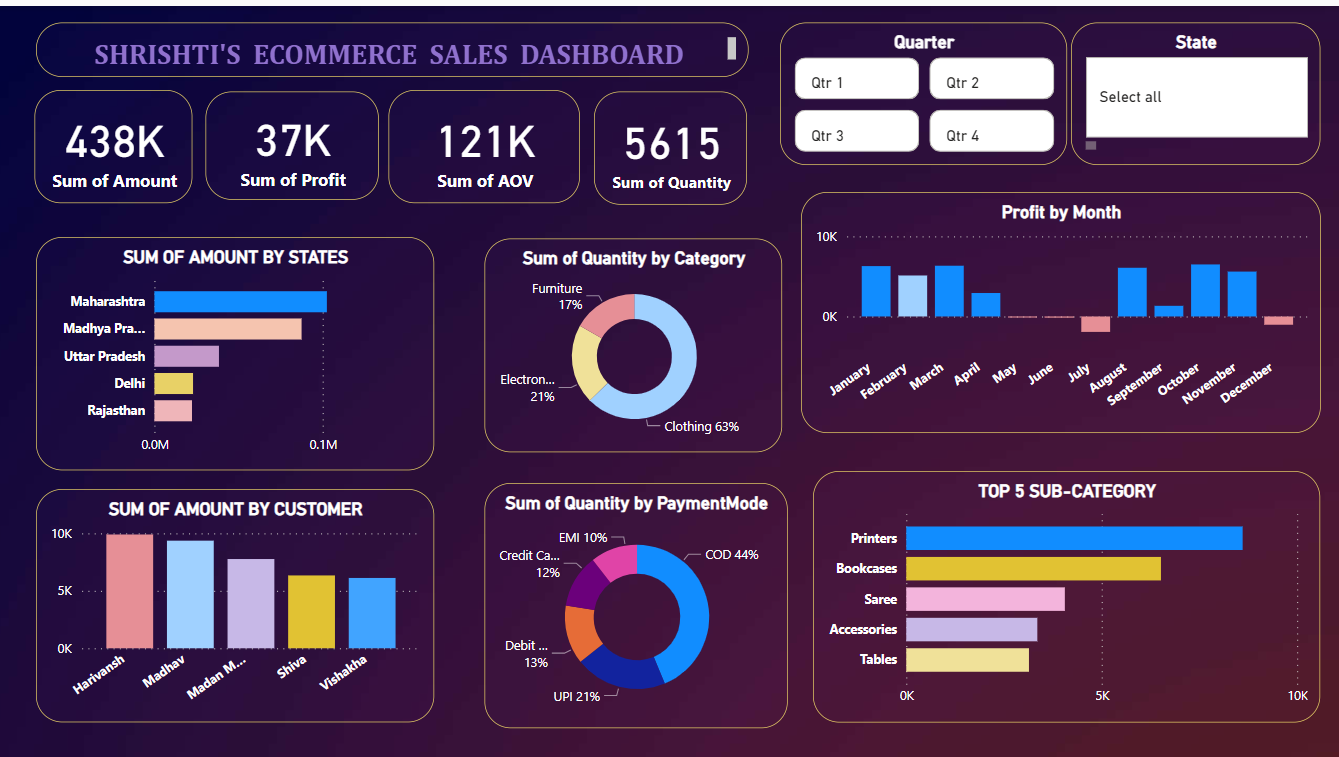

What the dashboard file says about the page in this screenshot:
{"tool":"powerbi","page":{"name":"Page 1","canvas":[1280,720],"ordinal":0},"visuals":[{"type":"columnChart","title":"Profit by Month","fields":{"Category":["Orders.Order Date.Variation.Date Hierarchy.Month"],"Y":["Details.Profit"]},"box":[764,178,496,230],"z":0},{"type":"textbox","box":[34,16,680,52],"z":1000},{"type":"barChart","title":"TOP 5 SUB-CATEGORY","fields":{"Category":["Details.Sub-Category"],"Y":["Details.Profit"]},"box":[776,444,484,240],"z":2000},{"type":"donutChart","fields":{"Y":["Details.Quantity"],"Category":["Details.Category"]},"box":[462,222,284,204],"z":3000},{"type":"donutChart","fields":{"Category":["Details.PaymentMode"],"Y":["Details.Quantity"]},"box":[463,455.4,289.1,234.3],"z":4000},{"type":"card","fields":{"Values":["Details.Amount"]},"box":[33.4,79.5,151,108.1],"z":5000},{"type":"card","fields":{"Values":["Details.Profit"]},"box":[195.5,81.1,165.3,103.3],"z":6000},{"type":"card","fields":{"Values":["Details.Quantity"]},"box":[567.4,81.1,146.2,108.1],"z":7000},{"type":"card","fields":{"Values":["Details.Average order value"]},"box":[370.3,79.5,182.8,108.1],"z":8000},{"type":"barChart","title":"SUM OF AMOUNT BY STATES","fields":{"Category":["Orders.State"],"Y":["Details.Amount"]},"box":[34,221.1,379.8,223],"z":9000},{"type":"columnChart","title":"SUM OF AMOUNT BY CUSTOMER","fields":{"Category":["Orders.CustomerName"],"Y":["Details.Amount"]},"box":[34,461.1,379.8,223],"z":10000},{"type":"advancedSlicerVisual","fields":{"Values":["Orders.State"]},"box":[1022,16,238,136],"z":11000},{"type":"advancedSlicerVisual","fields":{"Values":["Orders.Order Date.Variation.Date Hierarchy.Quarter"]},"box":[744,16,274,136],"z":12000}]}

Visuals, with their boxes in screenshot pixels (x1, y1, x2, y2), scaled from the page's 1280x720 canvas onto the 1339x757 screenshot:
"Profit by Month" columnChart: BBox(799, 187, 1318, 429)
textbox: BBox(36, 17, 747, 71)
"TOP 5 SUB-CATEGORY" barChart: BBox(812, 467, 1318, 719)
donutChart - Details.Quantity x Details.Category: BBox(483, 233, 780, 448)
donutChart - Details.PaymentMode x Details.Quantity: BBox(484, 479, 787, 725)
card - Details.Amount: BBox(35, 84, 193, 197)
card - Details.Profit: BBox(205, 85, 377, 194)
card - Details.Quantity: BBox(594, 85, 746, 199)
card - Details.Average order value: BBox(387, 84, 579, 197)
"SUM OF AMOUNT BY STATES" barChart: BBox(36, 232, 433, 467)
"SUM OF AMOUNT BY CUSTOMER" columnChart: BBox(36, 485, 433, 719)
advancedSlicerVisual - Orders.State: BBox(1069, 17, 1318, 160)
advancedSlicerVisual - Orders.Order Date.Variation.Date Hierarchy.Quarter: BBox(778, 17, 1065, 160)
